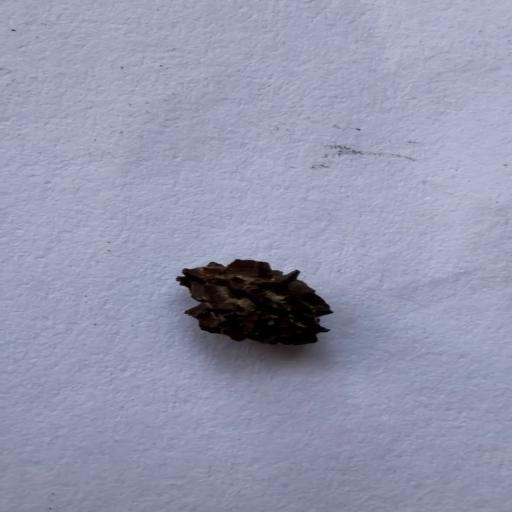papaya_seed: (174, 248, 338, 354)
